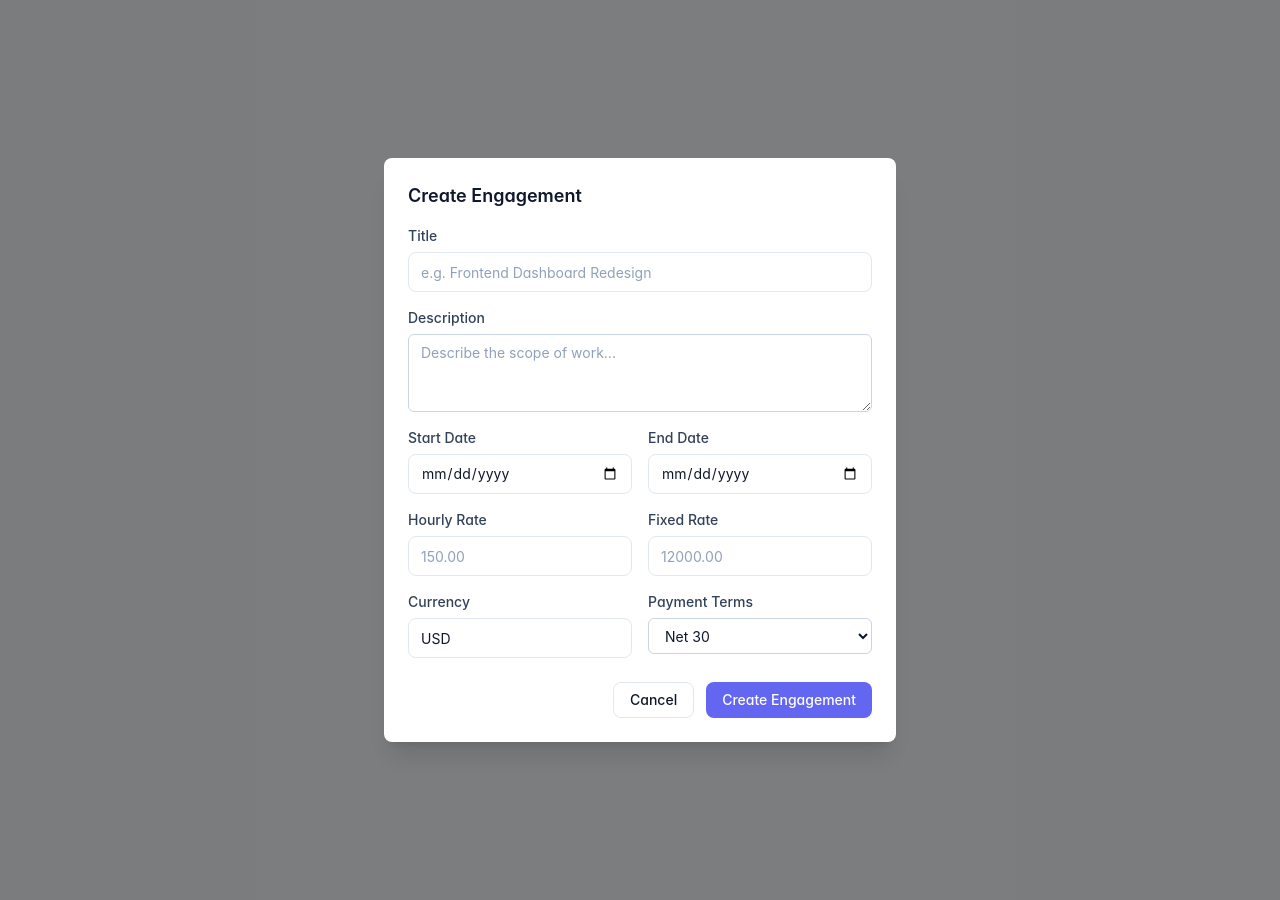
EngagementForm › shows a Zod validation error when neither hourly nor fixed rate is provided
In the field labelled "Title": (640, 272) left=408, top=252, right=872, bottom=292, type "Q3 Engagement"
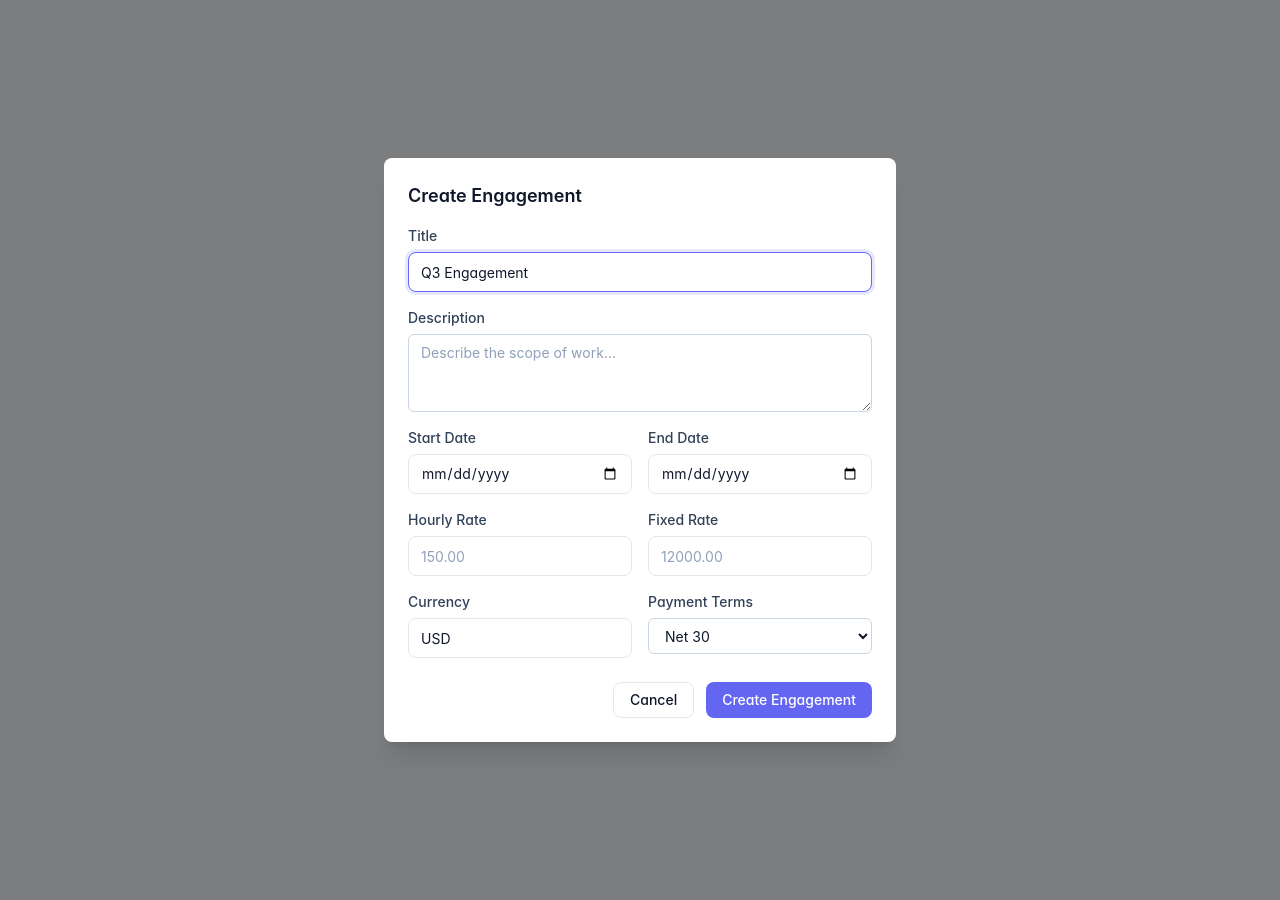
In the date field labelled "Start Date": (520, 474) left=408, top=454, right=632, bottom=494, type "2026-07-01"
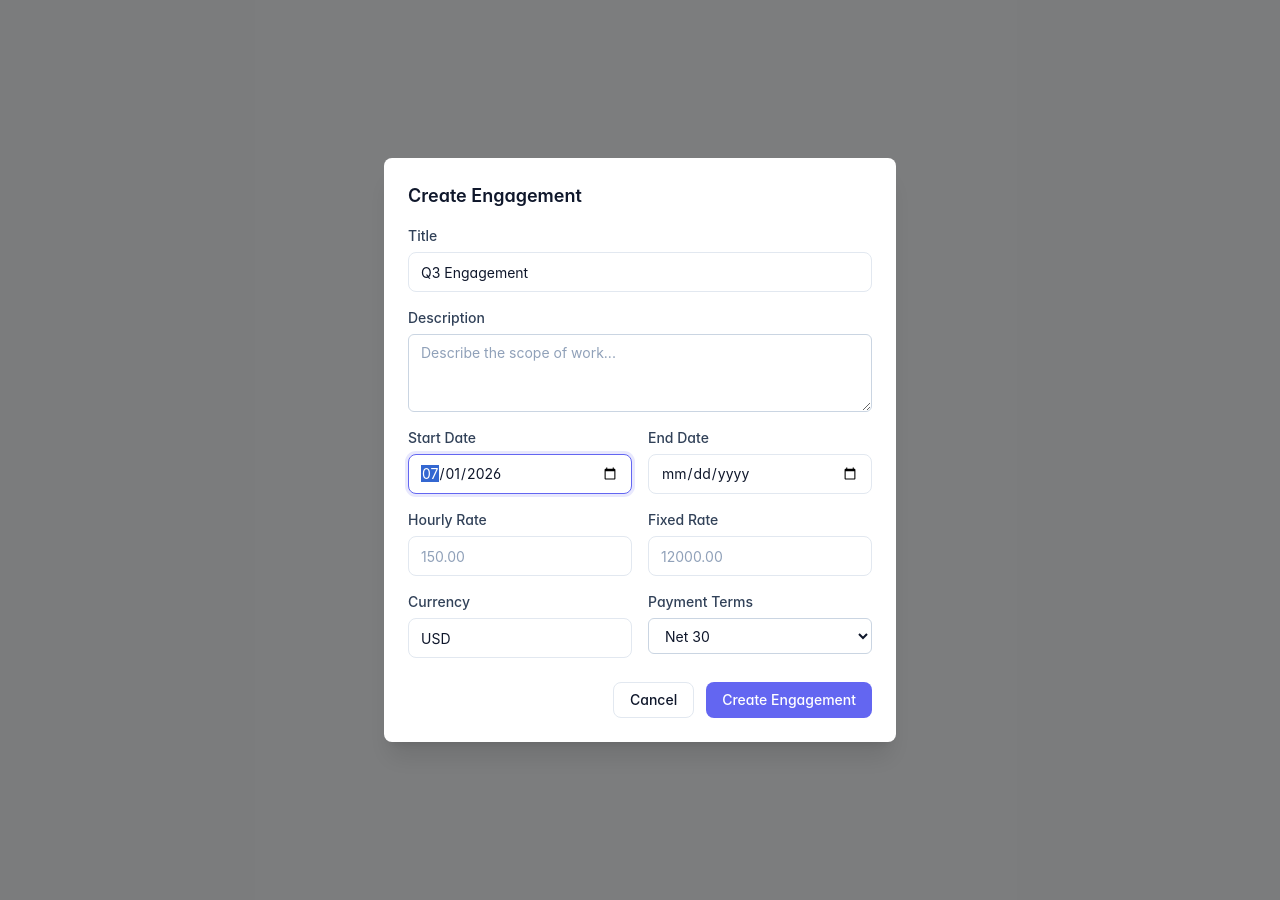
Click the button "Create Engagement": (789, 700) left=706, top=682, right=872, bottom=718
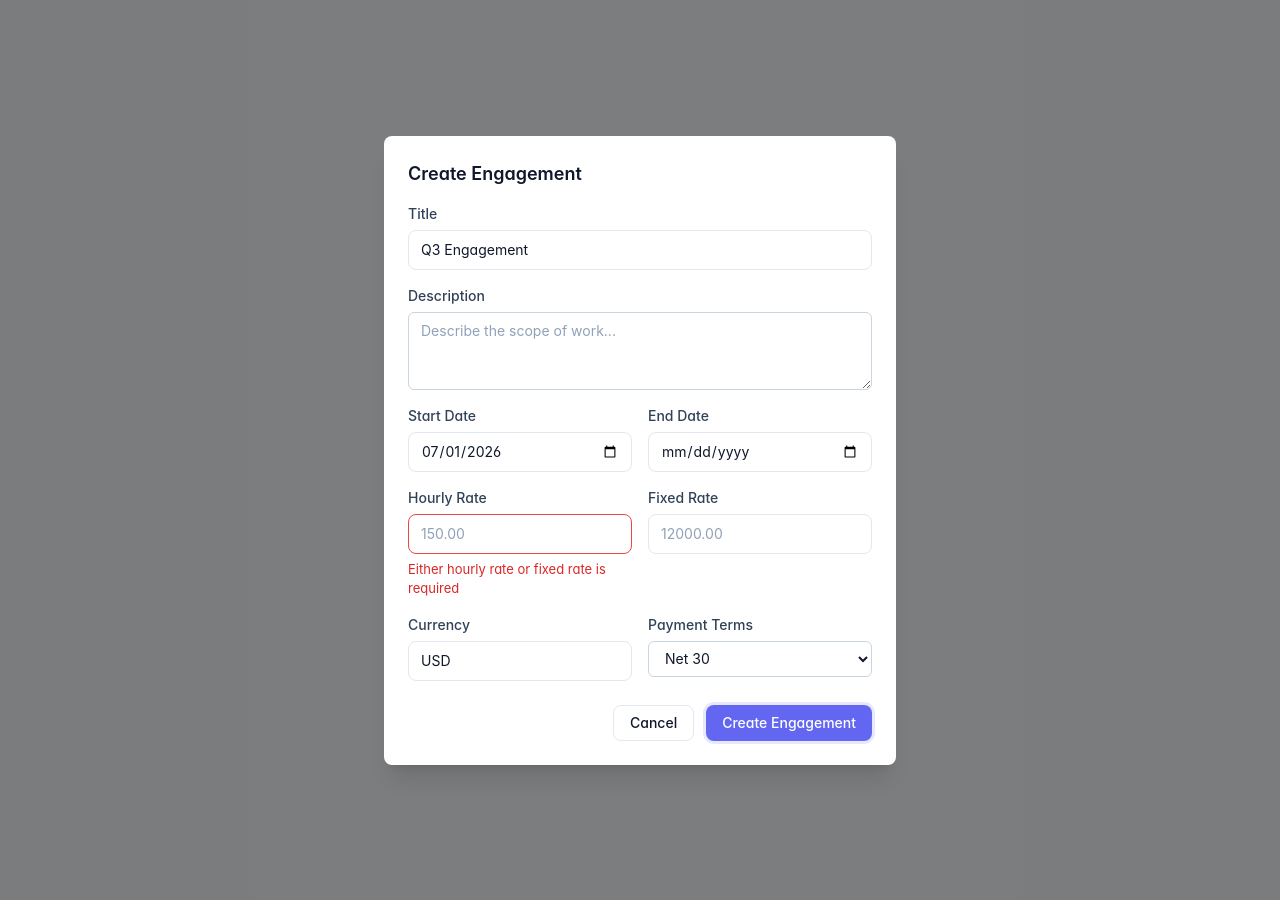
Expected: the text "Either hourly rate or fixed rate is required" is shown, left=408, top=560, right=632, bottom=598
